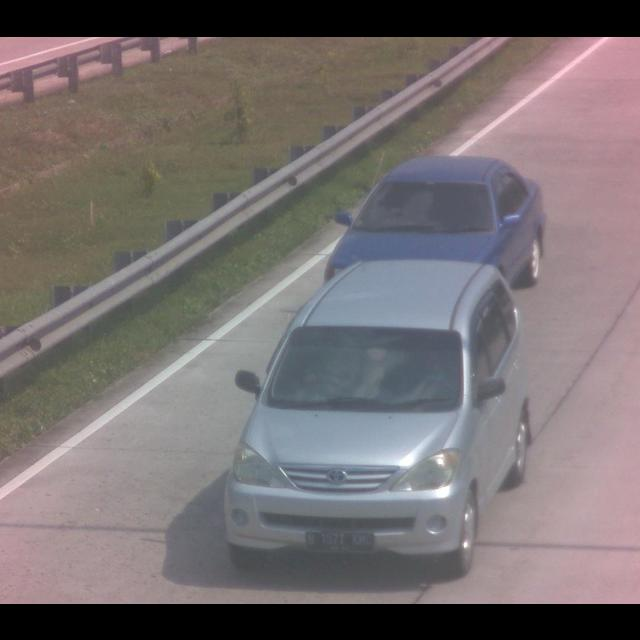plate: (304, 530, 379, 554)
